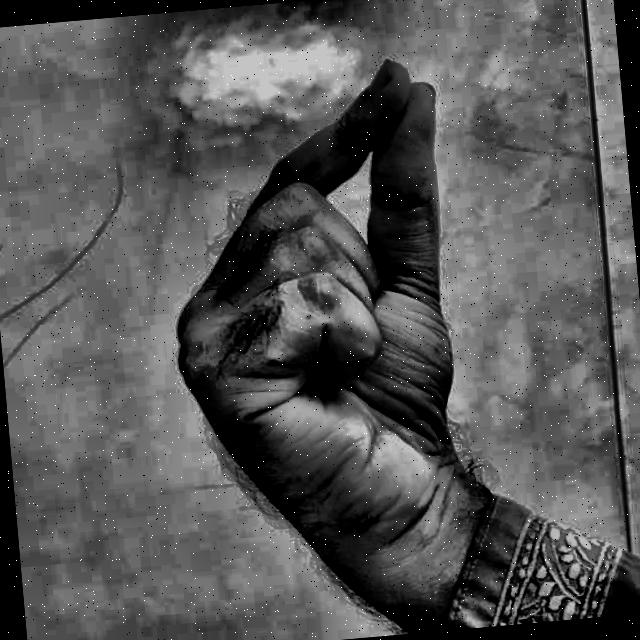Anusshar: (104, 0, 534, 600)
